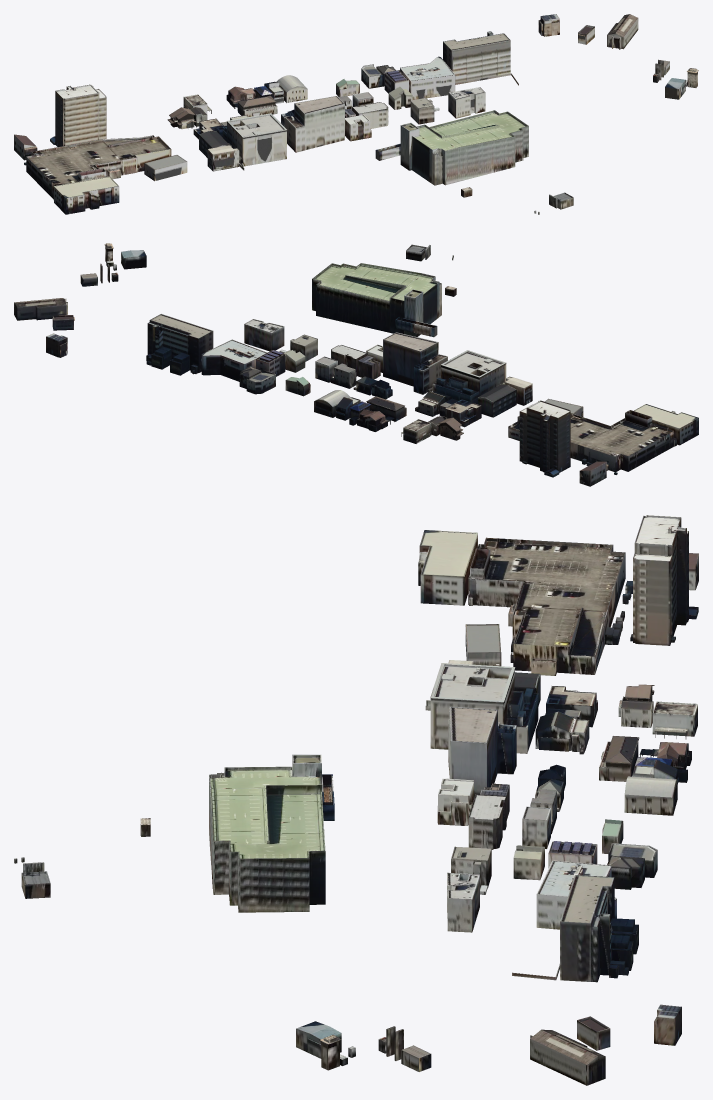
File: station-8-2-packed.glb
3 views of the same model, one above another, from view 1: azimuth 30°, elevation 25°; view 2: azimuth 150°, elevation 25°; view 3: azimuth 270°, elevation 25° (orthographic). The views are drawn at different scales.
Size of the model in its own units: 379 by 36.25 by 208.
6 materials, 5 textured.
